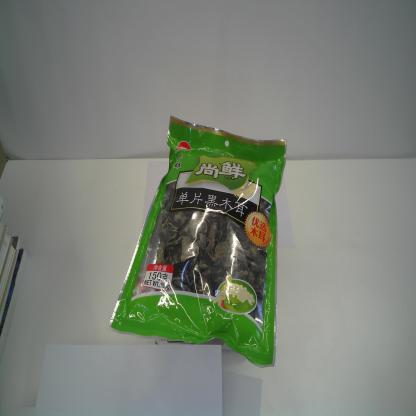Dried Food: (106, 113, 288, 370)
